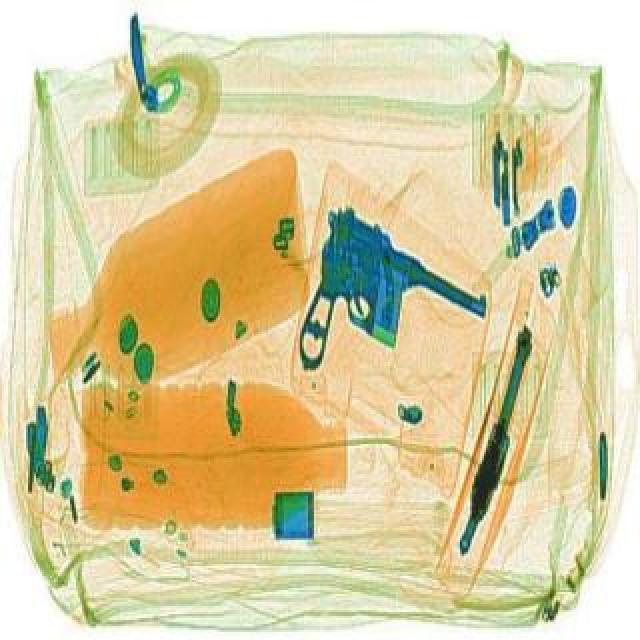gun: (240, 194, 500, 422), (438, 320, 546, 556)
